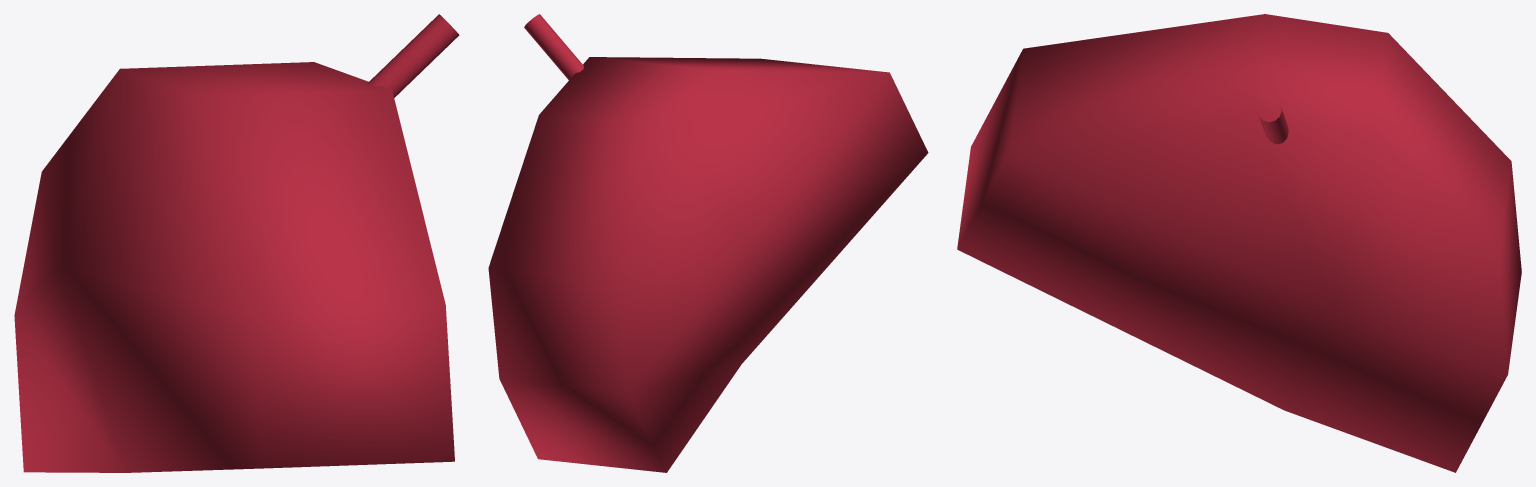
The model's file is cavernous-sinus-r.glb.
3 renders of one model, left to right at view 1: azimuth 30°, elevation 25°; view 2: azimuth 150°, elevation 25°; view 3: azimuth 270°, elevation 25°, orthographic. The views are drawn at different scales.
Parts seen in each view (by area): view 1: Cavernous sinus.r; view 2: Cavernous sinus.r; view 3: Cavernous sinus.r.
Part boxes in pixels (bbox=[...]): Cavernous sinus.r: bbox=[14, 14, 459, 472]; Cavernous sinus.r: bbox=[488, 14, 928, 472]; Cavernous sinus.r: bbox=[957, 14, 1521, 472].
Size of the model in its own units: 0.0147 by 0.0189 by 0.023.
